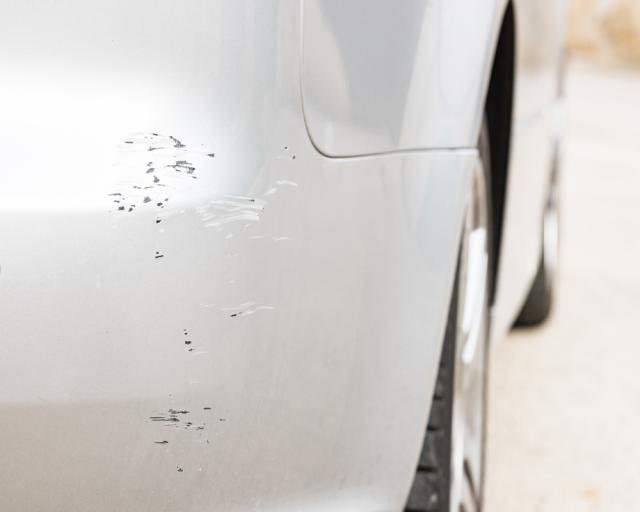scratch: (103, 125, 308, 473)
